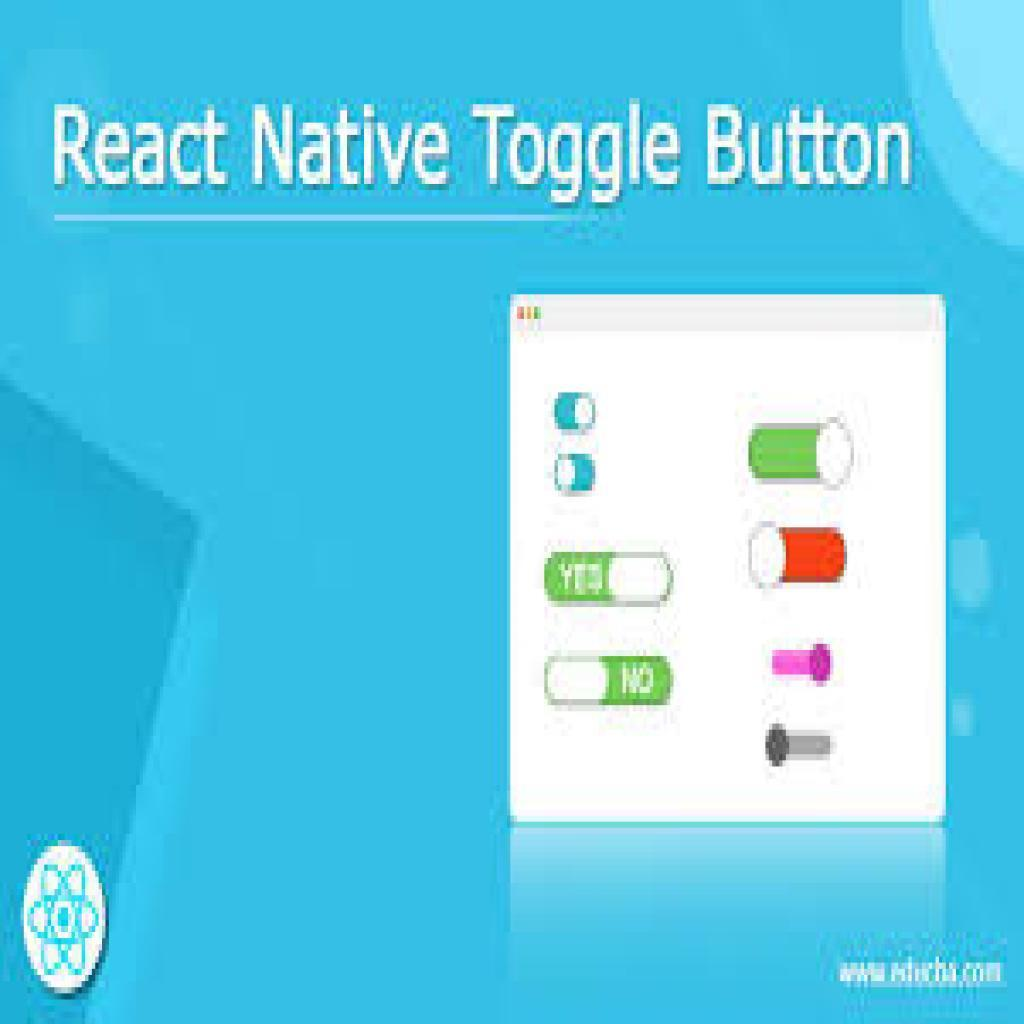switch: (543, 551, 678, 608), (748, 420, 855, 489), (547, 656, 675, 707), (747, 521, 848, 585), (767, 719, 837, 772), (771, 641, 834, 688), (552, 387, 605, 436), (553, 452, 602, 498)
